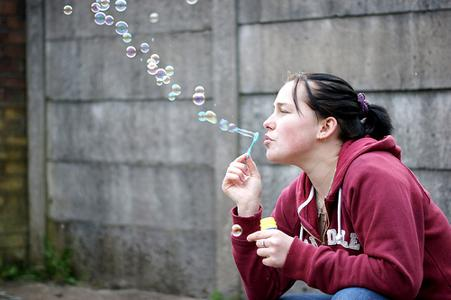person: (222, 74, 446, 300)
